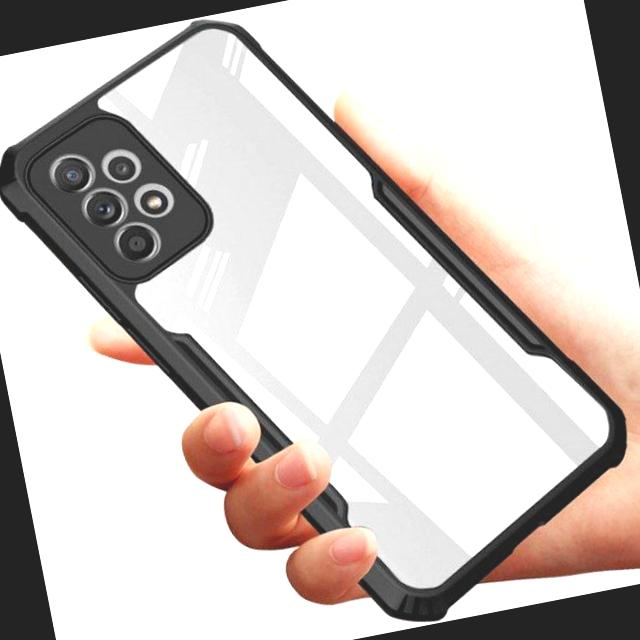lens_back: (44, 150, 100, 198), (81, 186, 130, 232), (113, 220, 161, 266)
